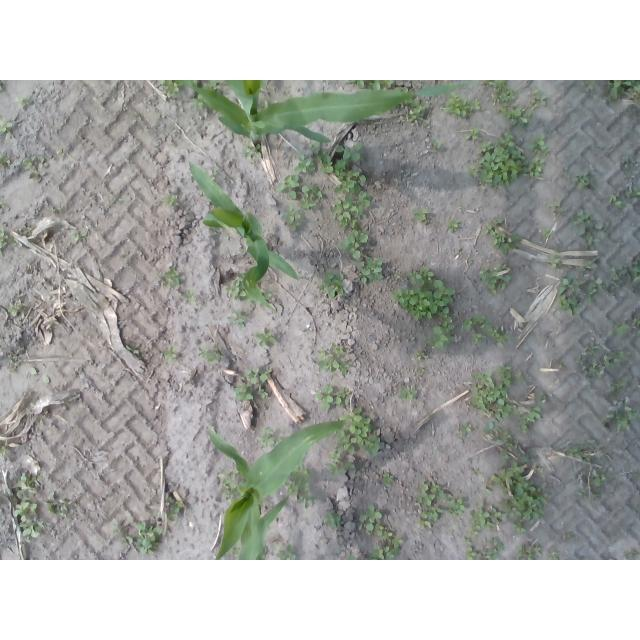Maize: (187, 163, 318, 314), (207, 420, 347, 561), (179, 80, 475, 145)
Weeds: (492, 457, 551, 522), (391, 266, 456, 322), (331, 143, 371, 230), (469, 132, 528, 189), (470, 365, 523, 421), (336, 406, 381, 458), (285, 462, 315, 510), (12, 501, 44, 543), (470, 502, 507, 538), (368, 524, 403, 560), (235, 367, 270, 402), (316, 341, 351, 375), (556, 276, 585, 317), (573, 209, 603, 245), (589, 352, 630, 377), (479, 264, 512, 295), (133, 521, 163, 555), (607, 400, 638, 432), (426, 317, 454, 351), (315, 385, 350, 412), (339, 230, 369, 260), (498, 103, 532, 129), (217, 467, 243, 501), (13, 471, 44, 499), (414, 481, 446, 508), (310, 139, 335, 173), (496, 425, 519, 461), (225, 272, 251, 303), (605, 80, 640, 102), (358, 504, 383, 533), (325, 452, 355, 476), (484, 80, 516, 102), (401, 99, 427, 126), (357, 257, 383, 284), (318, 271, 345, 297), (493, 231, 523, 254), (443, 91, 469, 117), (22, 156, 47, 183), (518, 406, 542, 434), (482, 320, 510, 344), (564, 170, 597, 190), (565, 439, 595, 461), (276, 173, 300, 200), (345, 80, 395, 92), (299, 183, 322, 209), (45, 492, 68, 517), (416, 507, 441, 530), (256, 425, 281, 447), (483, 536, 505, 560), (281, 206, 302, 231), (197, 344, 223, 364), (515, 542, 543, 560), (1, 227, 16, 259), (576, 342, 597, 364), (112, 526, 133, 547), (530, 134, 551, 155), (527, 157, 546, 180), (157, 81, 180, 100), (587, 278, 605, 302), (166, 496, 183, 521), (295, 154, 316, 174), (256, 328, 276, 348), (227, 310, 250, 327), (591, 470, 614, 487), (462, 315, 486, 331), (161, 266, 180, 286), (529, 88, 547, 109), (445, 497, 466, 515), (28, 367, 50, 384), (607, 320, 630, 336), (66, 228, 89, 244), (323, 511, 342, 530), (411, 207, 431, 225), (242, 140, 262, 158), (484, 218, 504, 235), (630, 257, 640, 288), (190, 92, 209, 108), (278, 544, 297, 560), (0, 113, 12, 138), (162, 346, 179, 363), (180, 289, 196, 307), (547, 201, 567, 215), (608, 379, 628, 393), (397, 387, 417, 401), (575, 260, 597, 272), (609, 265, 626, 280), (202, 81, 225, 92), (7, 302, 23, 317), (161, 194, 179, 207), (430, 137, 446, 151), (466, 546, 482, 560), (549, 253, 563, 268), (609, 194, 624, 208), (15, 93, 30, 107), (465, 127, 479, 141), (580, 80, 596, 92), (483, 420, 494, 437), (447, 219, 461, 232), (5, 354, 19, 367), (255, 100, 269, 113), (625, 548, 640, 560), (229, 543, 241, 558), (626, 186, 640, 198), (513, 522, 527, 534), (458, 423, 470, 437), (1, 153, 12, 168), (382, 473, 394, 486), (578, 490, 591, 502), (470, 333, 482, 346), (538, 390, 549, 403), (125, 345, 139, 355), (621, 156, 631, 169), (632, 315, 640, 331), (470, 101, 481, 112), (261, 289, 272, 300), (541, 228, 551, 239), (549, 549, 559, 560), (21, 225, 31, 235), (415, 352, 426, 361), (563, 532, 573, 541), (461, 536, 471, 544), (347, 554, 360, 560), (0, 445, 6, 456), (417, 365, 425, 372), (210, 168, 218, 175), (485, 486, 492, 494), (54, 207, 62, 213), (0, 196, 4, 207), (0, 80, 4, 91), (118, 197, 124, 204), (431, 447, 437, 454), (467, 259, 473, 265), (57, 150, 64, 155), (153, 270, 159, 275)
